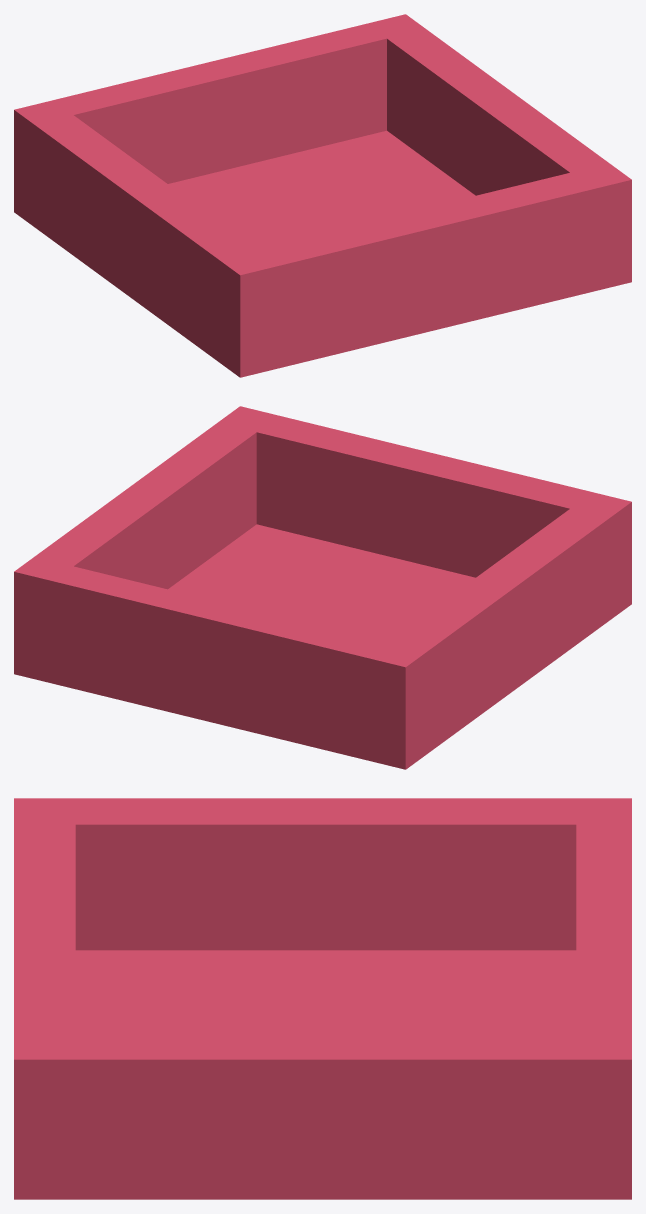
Rendered from Storage.fbx.
3 views of the same model, one above another, from view 1: azimuth 30°, elevation 25°; view 2: azimuth 150°, elevation 25°; view 3: azimuth 270°, elevation 25° (orthographic). The views are drawn at different scales.
Parts seen in each view (by area): view 1: Storage; view 2: Storage; view 3: Storage.
Boxes of the visible parts, x1=… form: Storage: x1=14, y1=14, x2=631, y2=377; Storage: x1=14, y1=406, x2=631, y2=769; Storage: x1=14, y1=798, x2=631, y2=1199.
Size of the model in its own units: 200 by 50 by 200.
